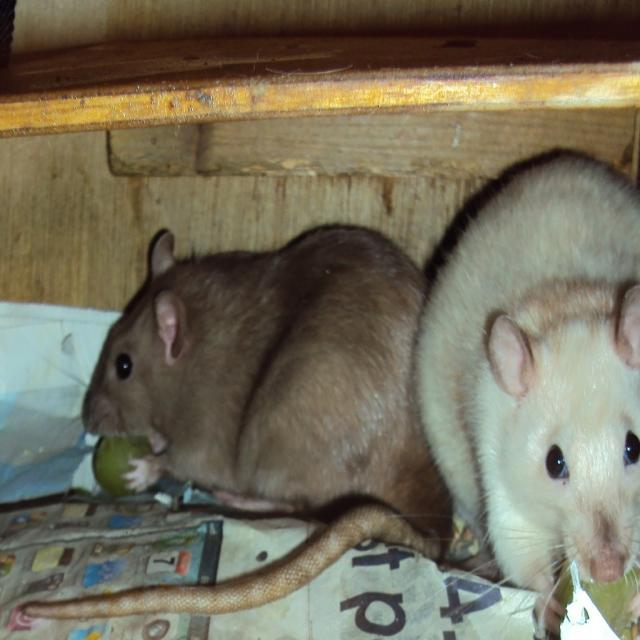rat: (22, 146, 640, 616)
